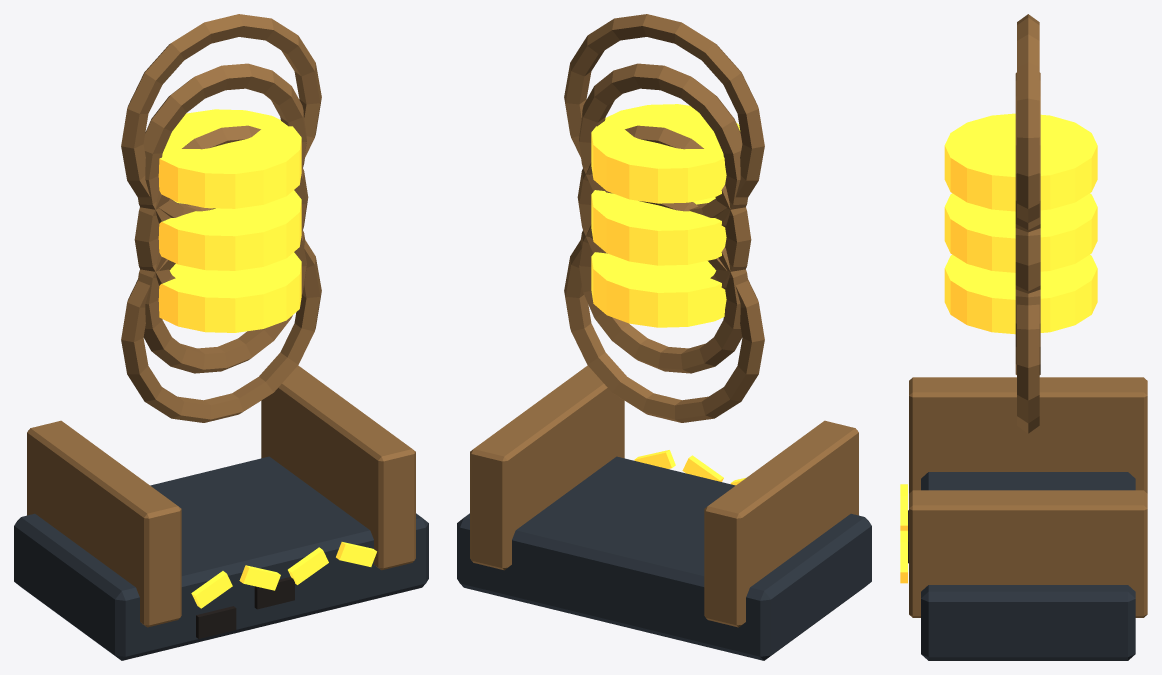
File: runtime.glb
3 views of the same model, side by side, from view 1: azimuth 30°, elevation 25°; view 2: azimuth 150°, elevation 25°; view 3: azimuth 270°, elevation 25° (orthographic).
Parts seen in each view (by area): view 1: kinetic-tide-warning-beacon-v03_bronze_nocol, kinetic-tide-warning-beacon-v03_steel_nocol, kinetic-tide-warning-beacon-v03_warningorange_nocol, kinetic-tide-warning-beacon-v03_weardark_nocol; view 2: kinetic-tide-warning-beacon-v03_bronze_nocol, kinetic-tide-warning-beacon-v03_steel_nocol, kinetic-tide-warning-beacon-v03_warningorange_nocol; view 3: kinetic-tide-warning-beacon-v03_bronze_nocol, kinetic-tide-warning-beacon-v03_warningorange_nocol, kinetic-tide-warning-beacon-v03_steel_nocol.
Part boxes in pixels (x1,y1,x2,y2): kinetic-tide-warning-beacon-v03_bronze_nocol: [27, 14, 415, 627]; kinetic-tide-warning-beacon-v03_steel_nocol: [14, 456, 428, 660]; kinetic-tide-warning-beacon-v03_warningorange_nocol: [158, 109, 376, 608]; kinetic-tide-warning-beacon-v03_weardark_nocol: [196, 577, 294, 638]; kinetic-tide-warning-beacon-v03_bronze_nocol: [470, 14, 858, 627]; kinetic-tide-warning-beacon-v03_steel_nocol: [457, 456, 871, 660]; kinetic-tide-warning-beacon-v03_warningorange_nocol: [591, 104, 745, 485]; kinetic-tide-warning-beacon-v03_bronze_nocol: [909, 14, 1147, 617]; kinetic-tide-warning-beacon-v03_warningorange_nocol: [900, 113, 1097, 583]; kinetic-tide-warning-beacon-v03_steel_nocol: [921, 472, 1135, 660].
Bounding box in the file's own units: 2.33 × 4.03 × 1.61.
